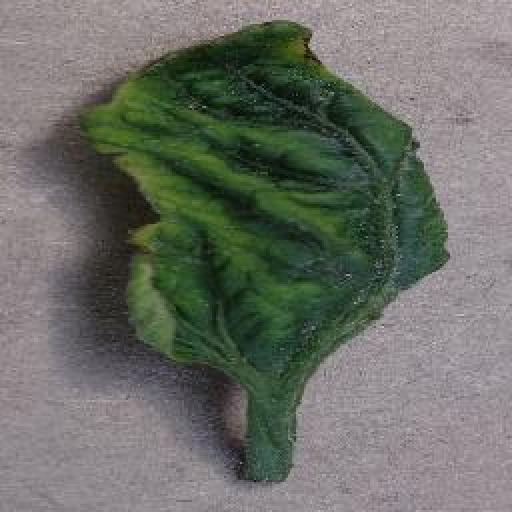Yellow Leaf Curl Virus: (76, 18, 455, 386)
